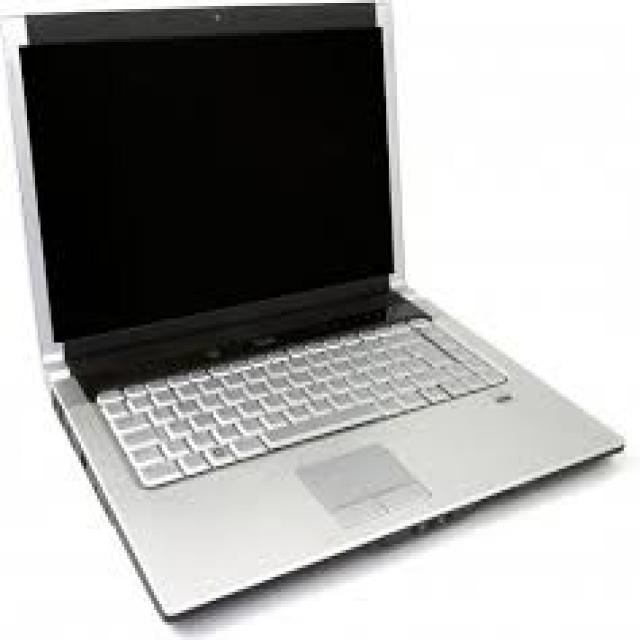others: (19, 12, 637, 613)
